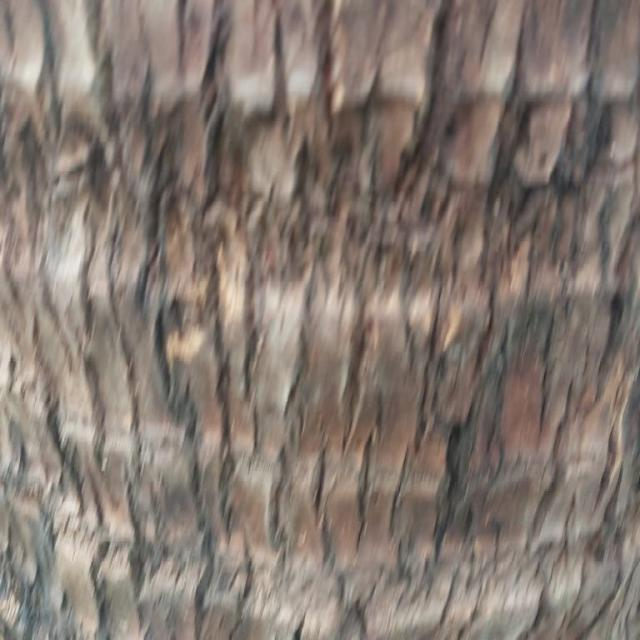stembleeding: (55, 7, 640, 525)
